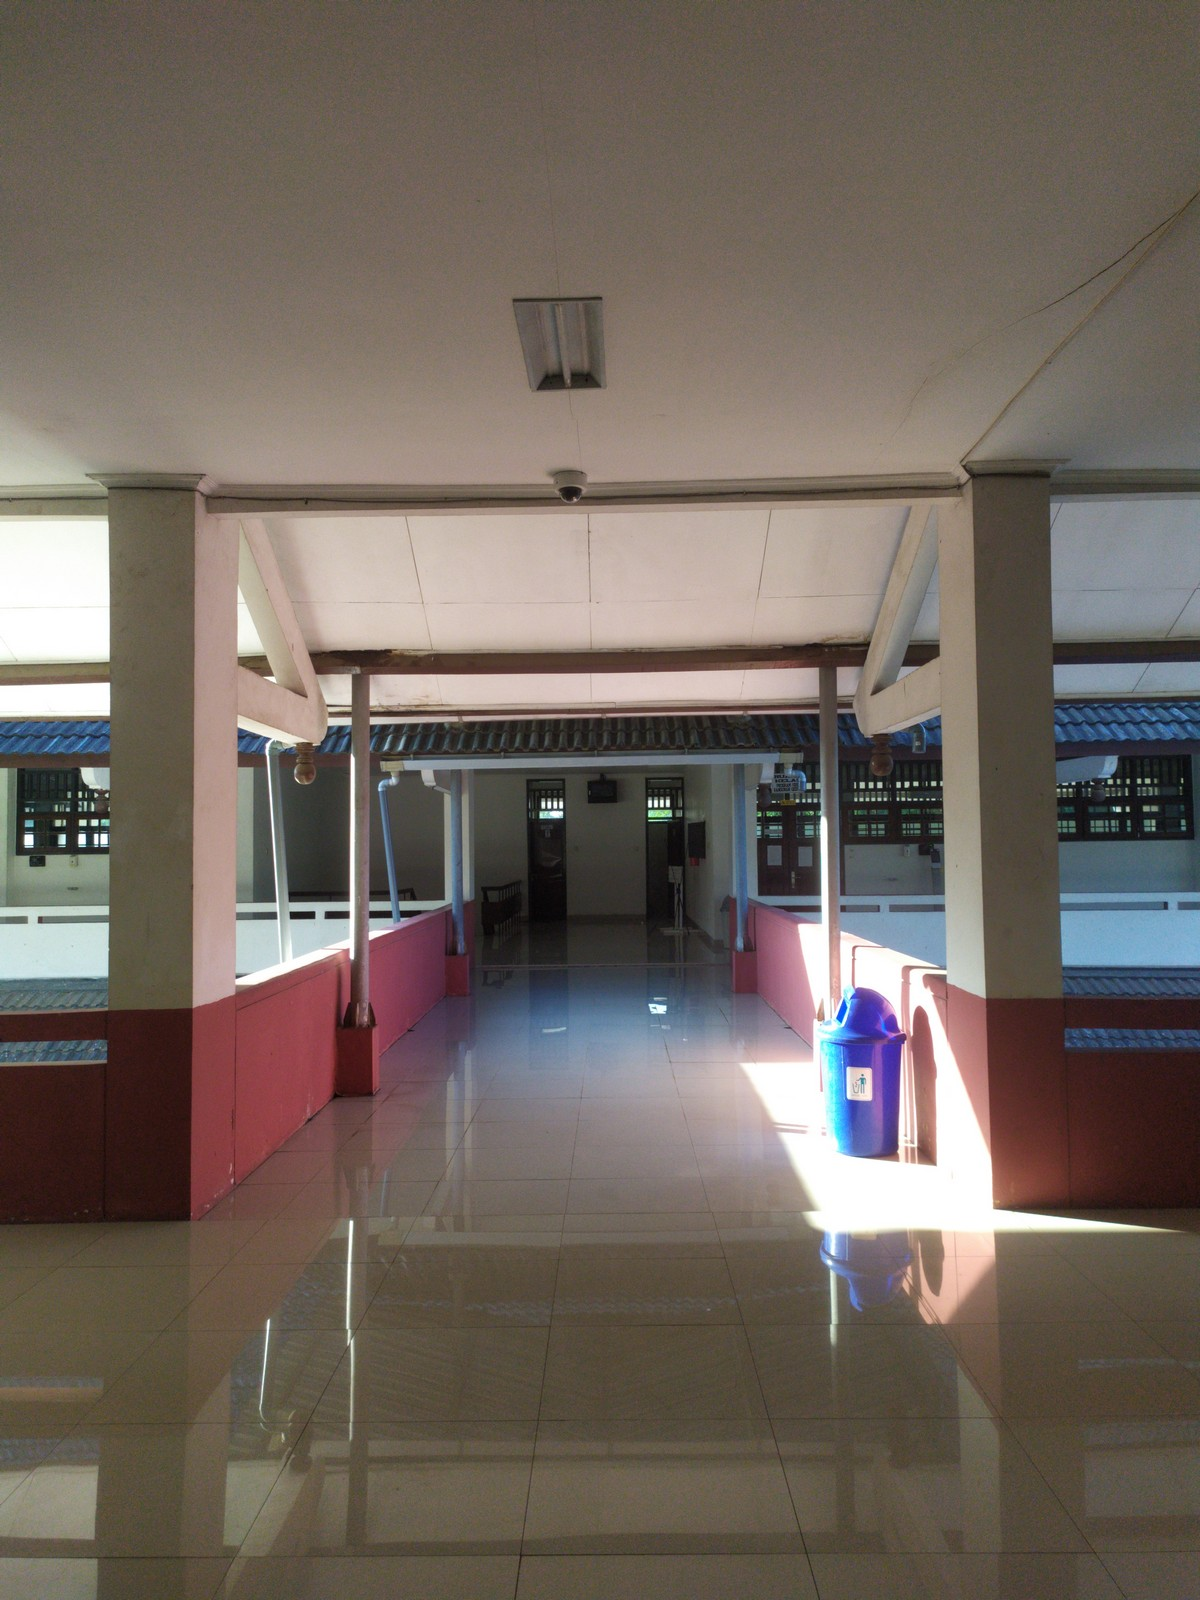concrete beam: (867, 661, 954, 746), (223, 660, 301, 745)
concrete column: (925, 464, 1079, 1217), (100, 472, 246, 1231)
